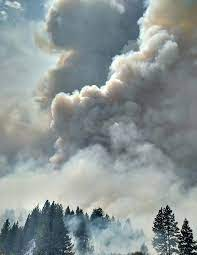smoke: (46, 4, 196, 196)
